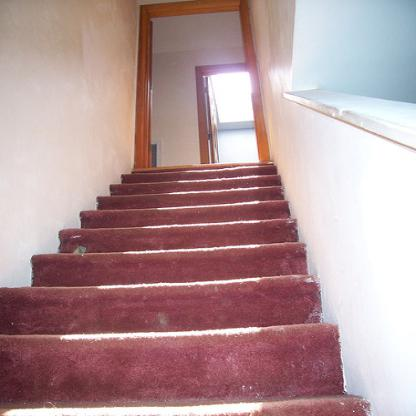stairs: (65, 237, 288, 416)
